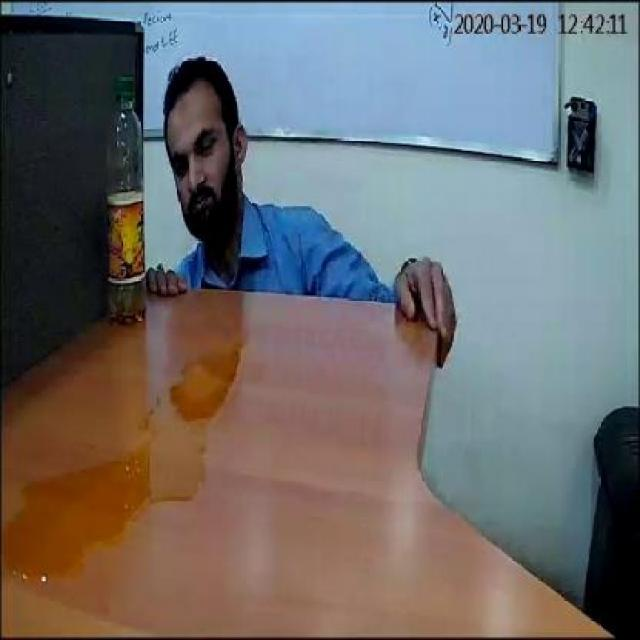spill: (4, 342, 244, 584)
